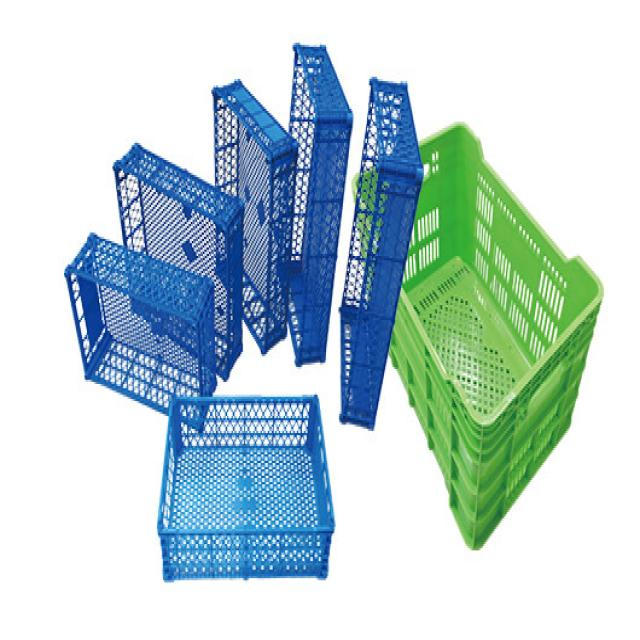basket: (330, 117, 635, 565), (81, 113, 321, 383), (304, 76, 442, 428), (30, 228, 252, 426), (157, 399, 337, 583), (273, 43, 359, 366), (206, 78, 300, 355)
